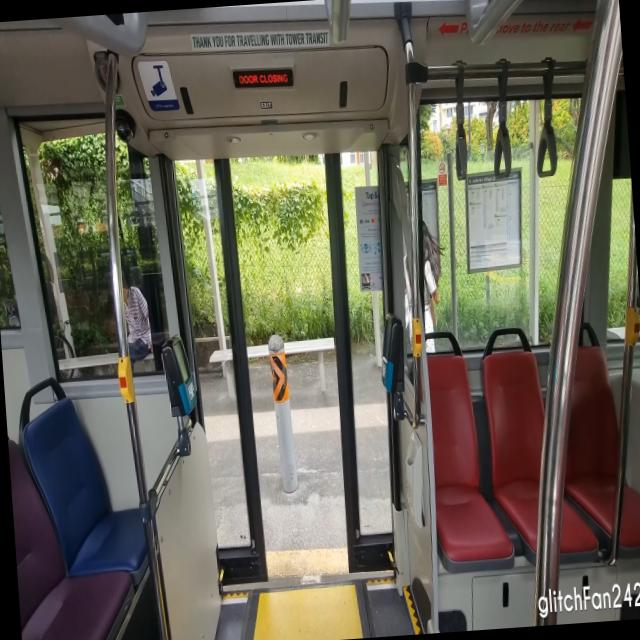bus-door: (174, 157, 268, 582), (324, 152, 392, 572)
